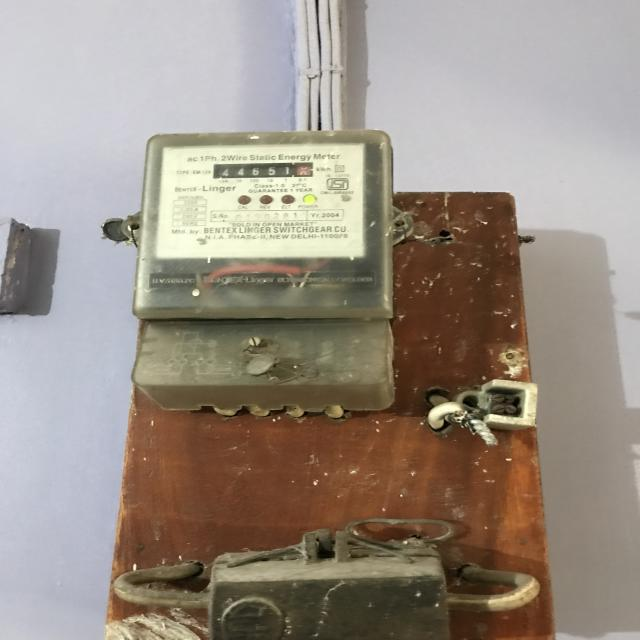display: (210, 162, 316, 180)
